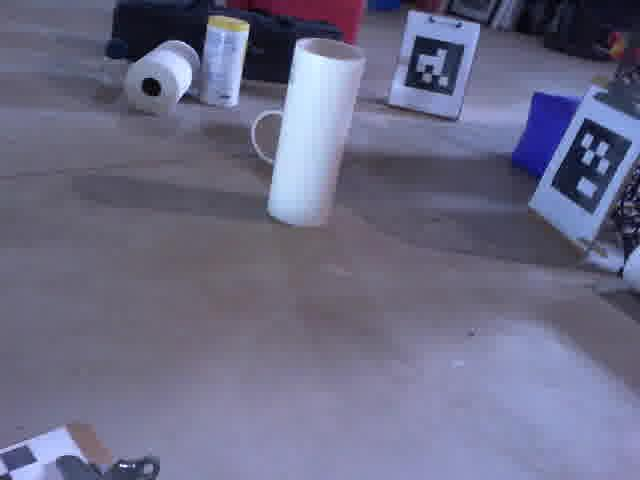coral: (261, 35, 375, 231), (244, 100, 293, 175)
